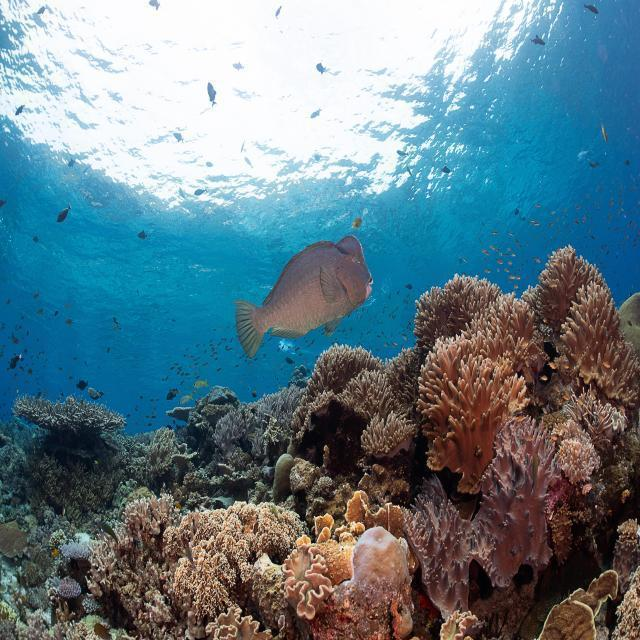Healthy Coral: (370, 449, 603, 597), (410, 273, 525, 488), (532, 246, 640, 396), (161, 505, 310, 610), (539, 574, 619, 640), (280, 546, 341, 616), (201, 615, 286, 640), (121, 495, 179, 531), (56, 579, 81, 602)
